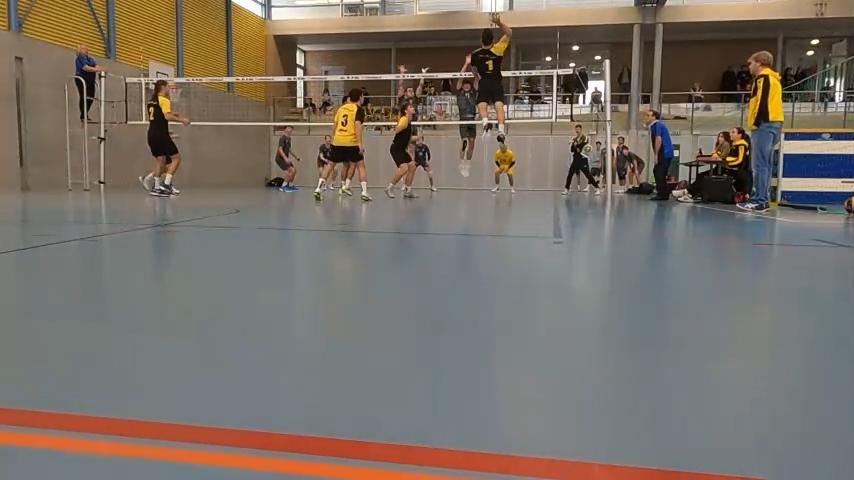attacco: (453, 9, 513, 141)
muro: (447, 56, 481, 181), (393, 61, 432, 115)
